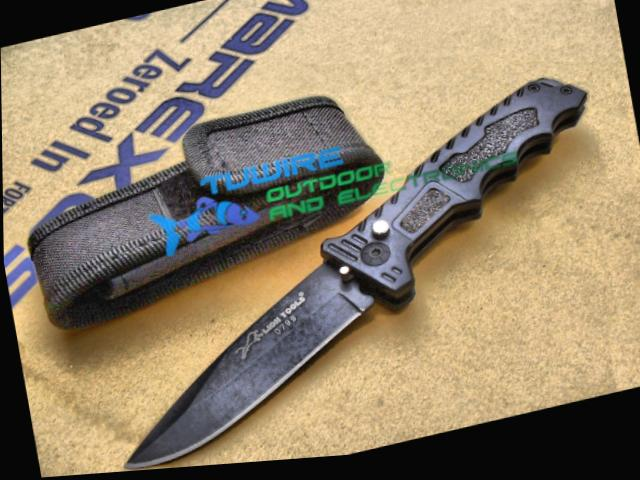knife: (88, 255, 396, 475)
